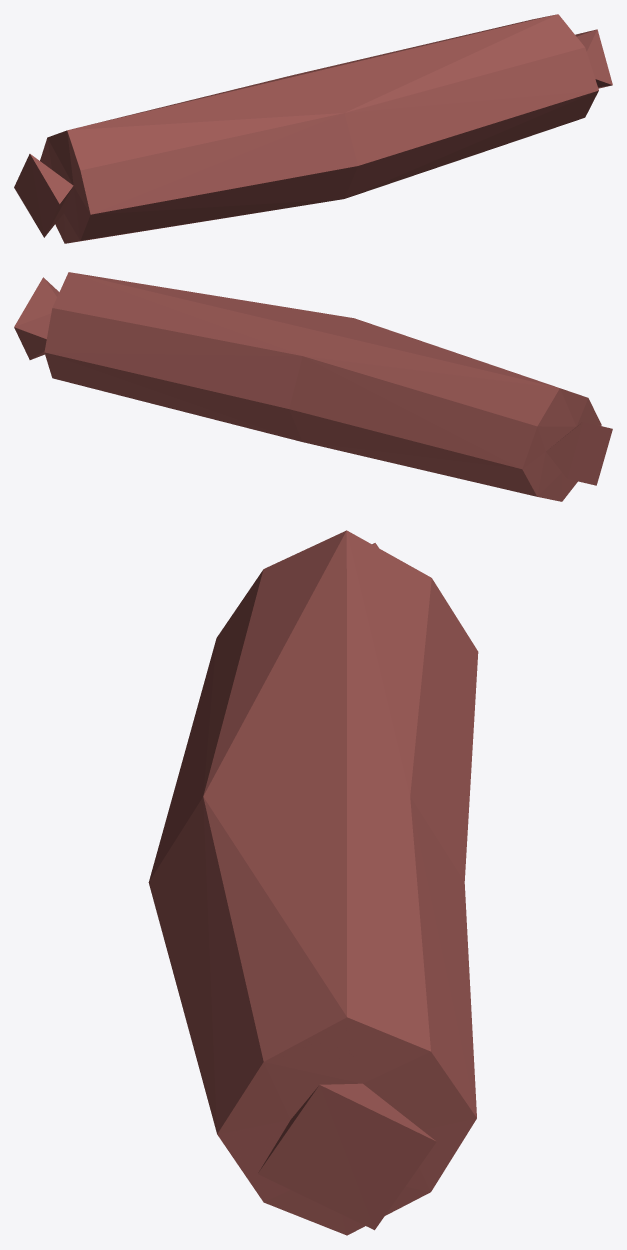
The model's file is porkSausage.fbx.
The picture shows the model from 3 angles, top to bottom: view 1: azimuth 30°, elevation 25°; view 2: azimuth 150°, elevation 25°; view 3: azimuth 270°, elevation 25°; orthographic projection. The views are drawn at different scales.
Visible parts, largest first — view 1: porkSausage; view 2: porkSausage; view 3: porkSausage.
Part boxes in pixels (<box>): porkSausage: <box>14,14,612,243</box>; porkSausage: <box>14,272,612,501</box>; porkSausage: <box>148,530,478,1235</box>.
Bounding box in the file's own units: 23.48 × 5.02 × 6.05.
1 material, 1 textured.
